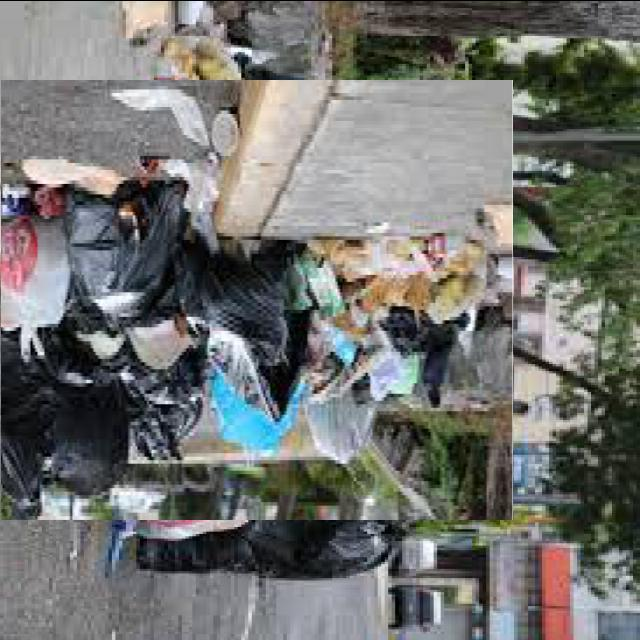Trashbag: (0, 375, 134, 511), (67, 174, 184, 309), (171, 249, 287, 351), (126, 350, 207, 461)
